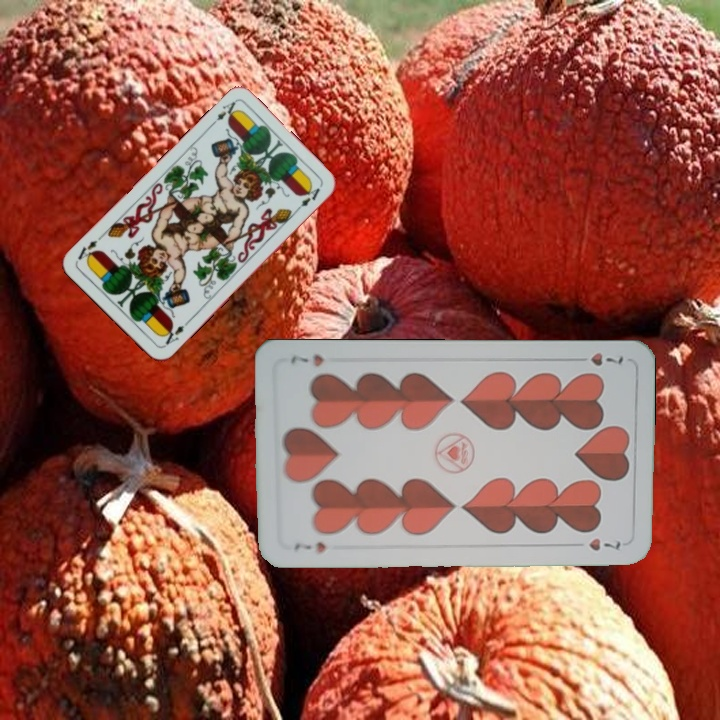EA: (158, 316, 192, 350), (206, 97, 240, 129)
H7: (570, 349, 626, 369), (290, 537, 328, 555)
